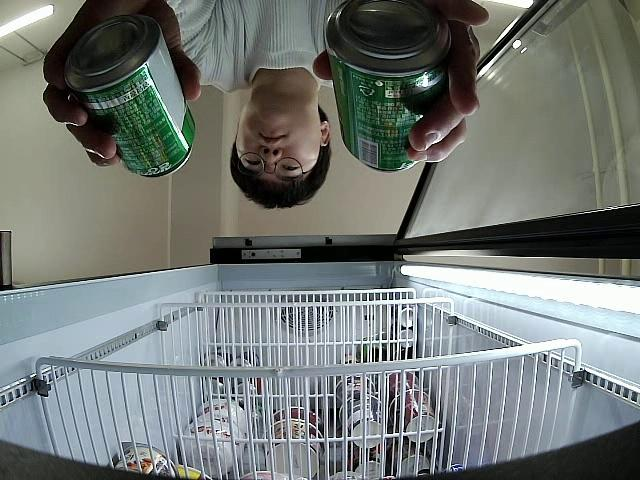00_hand: (311, 0, 490, 165), (43, 0, 201, 168)
12_chilsungCider: (62, 15, 196, 179), (323, 1, 450, 173)
